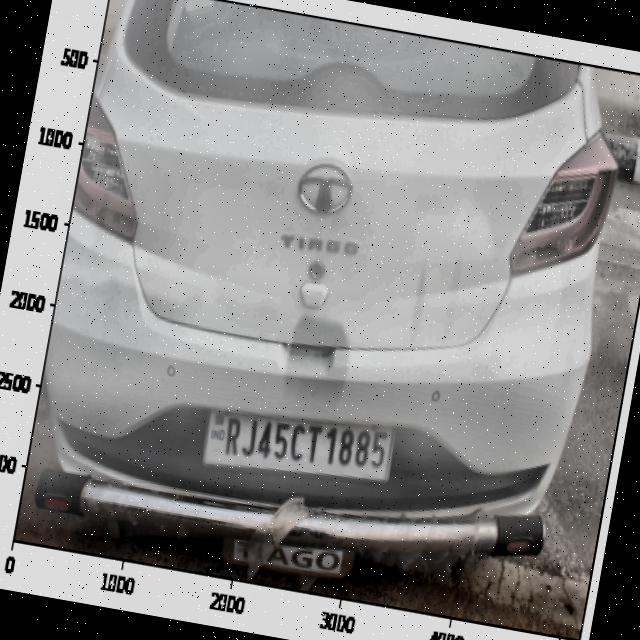license_plate: (214, 404, 396, 486)
